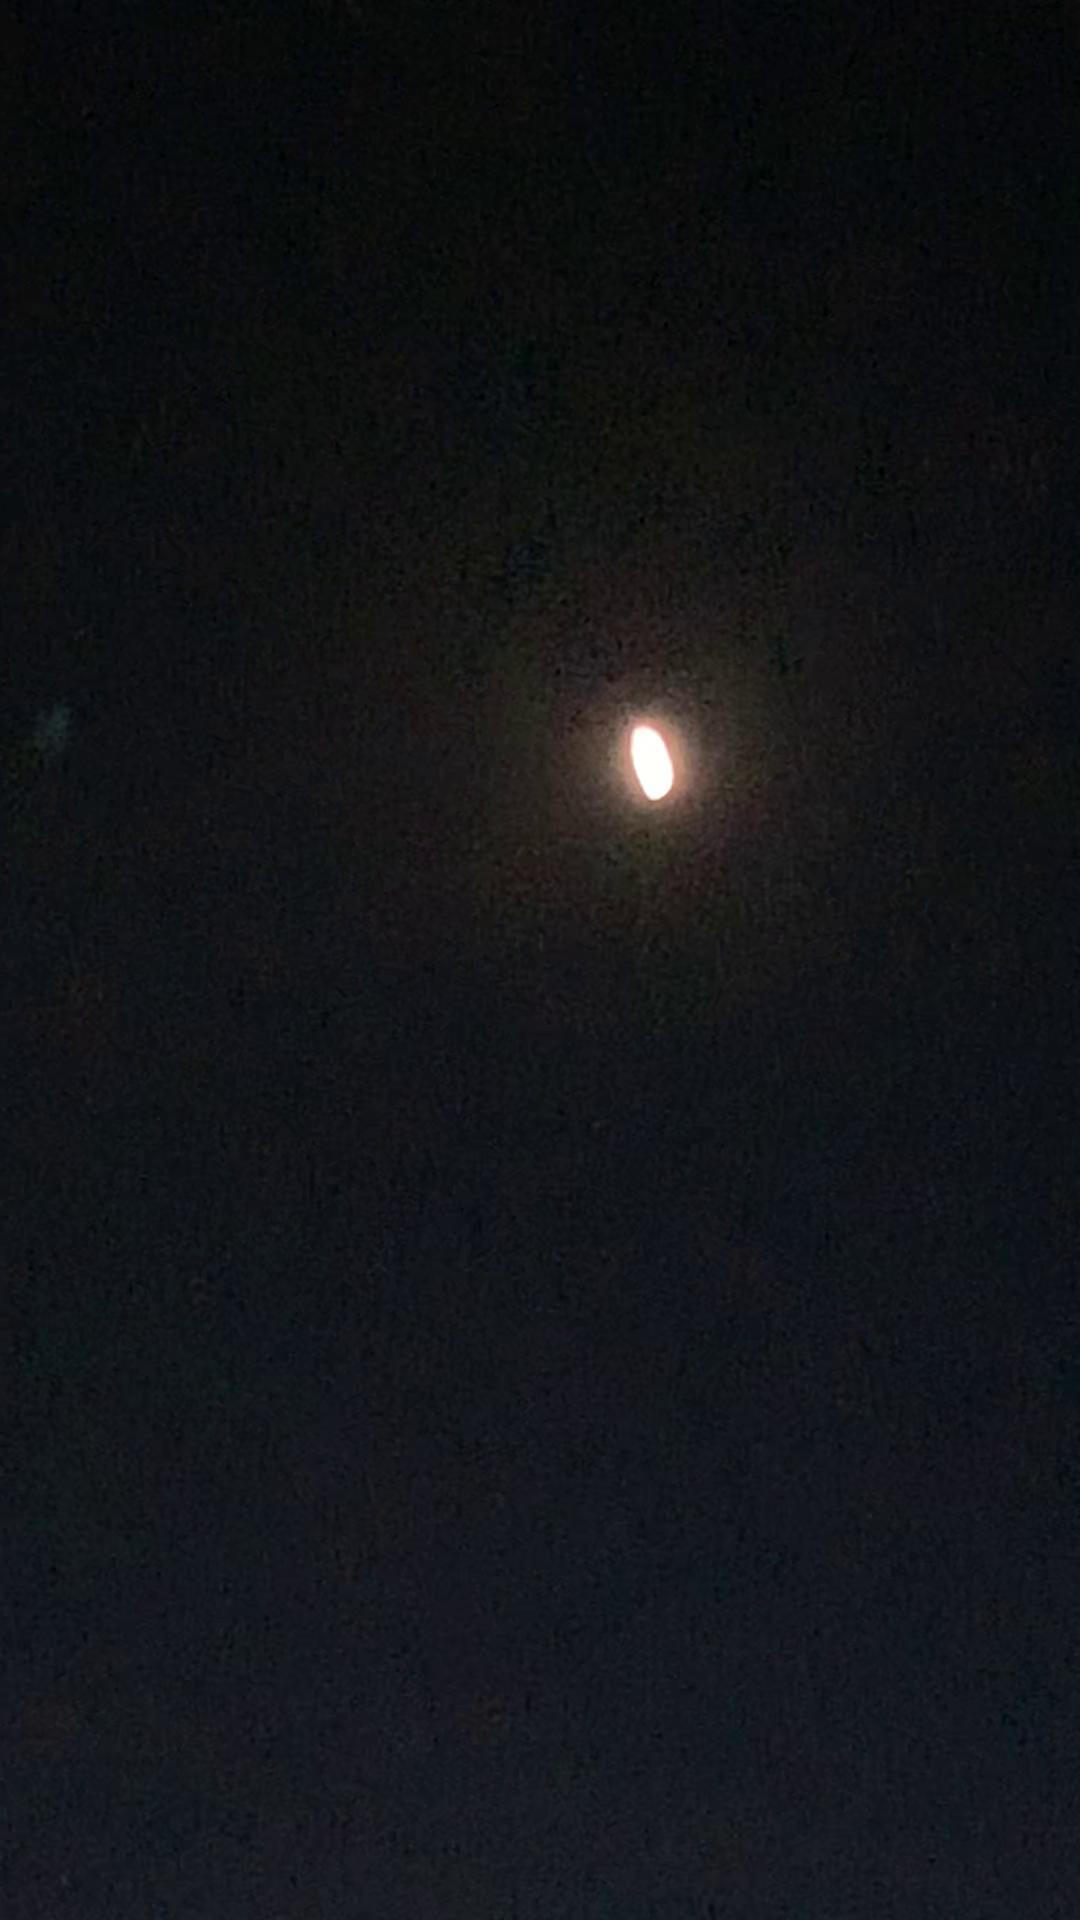moon: (611, 716, 700, 798)
